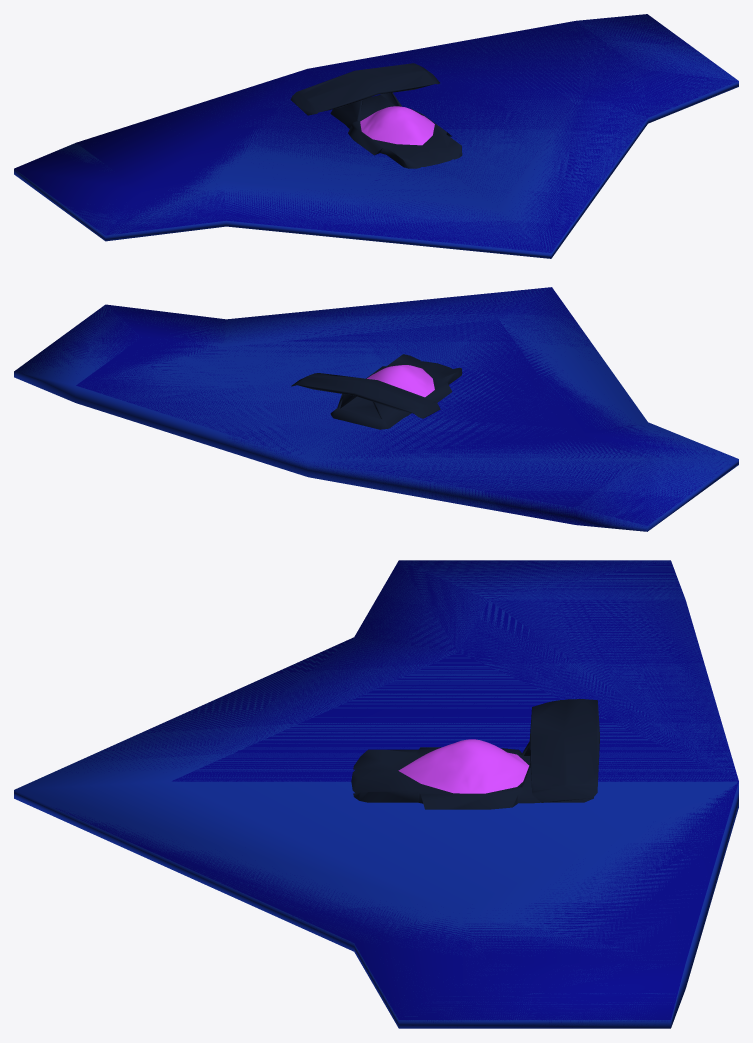
Rendered from Buggy.fbx.
3 renders of one model, top to bottom at view 1: azimuth 30°, elevation 25°; view 2: azimuth 150°, elevation 25°; view 3: azimuth 270°, elevation 25°, orthographic. The views are drawn at different scales.
Parts seen in each view (by area): view 1: Wings, Wings_1, Lod0, Cockpit; view 2: Wings_1, Wings, Lod0, Cockpit; view 3: Wings_1, Wings, Lod0, Cockpit.
Part boxes in pixels (box(x1,y1,x2,y2)): Wings: box(14, 14, 737, 255); Wings_1: box(14, 14, 738, 258); Lod0: box(290, 63, 462, 168); Cockpit: box(360, 106, 434, 145); Wings_1: box(14, 287, 738, 531); Wings: box(14, 287, 733, 530); Lod0: box(291, 354, 462, 429); Cockpit: box(367, 365, 434, 397); Wings_1: box(14, 560, 738, 1028); Wings: box(55, 560, 738, 1027); Lod0: box(351, 699, 599, 809); Cockpit: box(398, 739, 529, 793).
Size of what is drawn, in the model's own units: 832 by 71.09 by 554.
